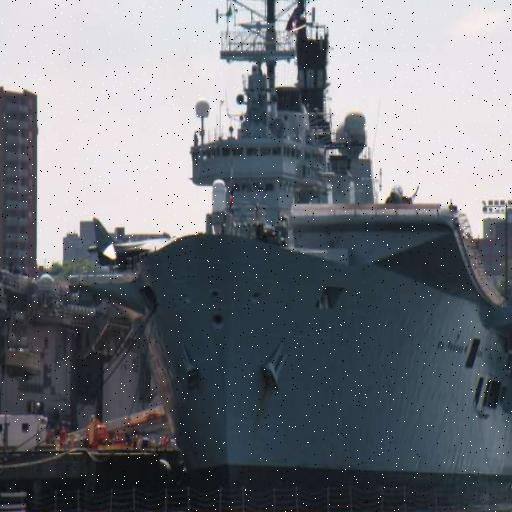Portanaves: (135, 1, 512, 512)
